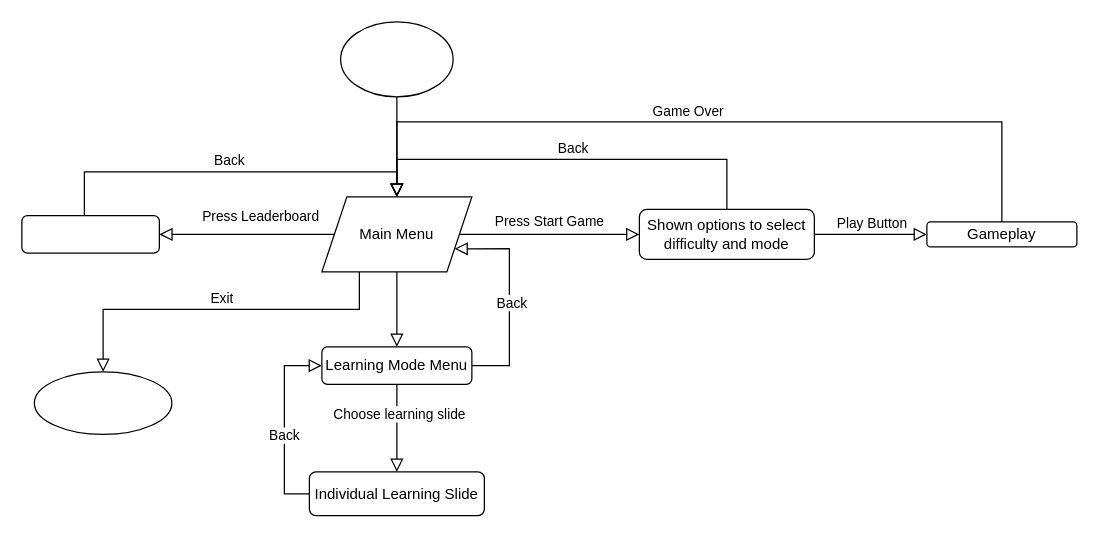
Some shapes in this 1099 by 538 pixel diagram are drawn without their labels. The centre of each missing label's shape, as x and y in pixels:
"Launch Program" goes at pixel 396 59.
"Program Closes" goes at pixel 102 402.
"View leaderboard" goes at pixel 90 233.
